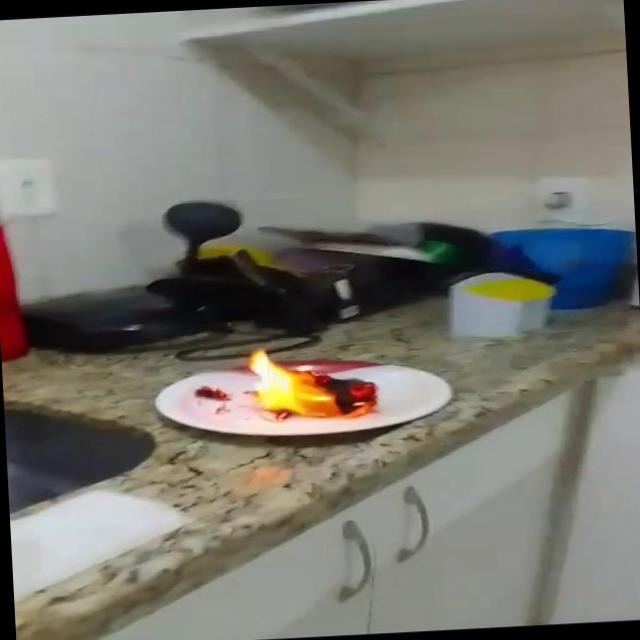Fire: (242, 342, 384, 430)
